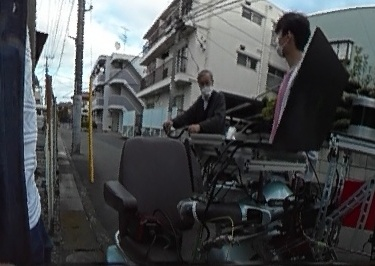person: (166, 68, 233, 133)
